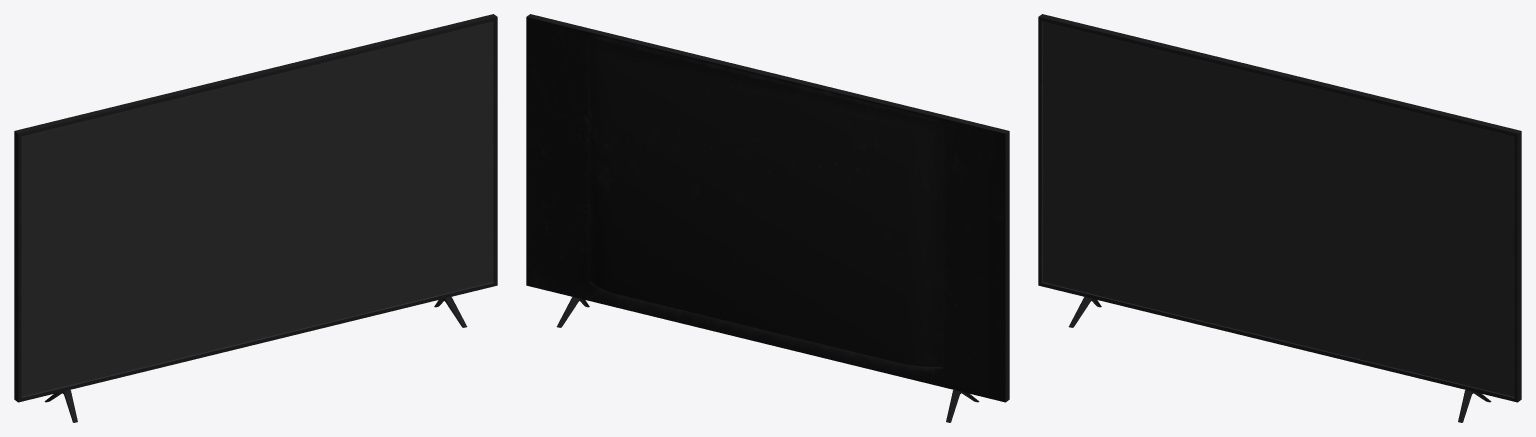
The model's file is tv_living_room.glb.
The picture shows the model from 3 angles, left to right: view 1: azimuth 30°, elevation 25°; view 2: azimuth 150°, elevation 25°; view 3: azimuth 330°, elevation 25°; orthographic projection.
Parts seen in each view (by area): view 1: TV_Screen_Livingroom_TV_0, TV_Legs_Livingroom_TV_0; view 2: TV_Screen_Livingroom_TV_0, TV_Legs_Livingroom_TV_0; view 3: TV_Screen_Livingroom_TV_0, TV_Legs_Livingroom_TV_0.
Boxes of the visible parts, box(x1,y1,x2,y2) form: TV_Screen_Livingroom_TV_0: box(14, 14, 497, 402); TV_Legs_Livingroom_TV_0: box(44, 297, 467, 422); TV_Screen_Livingroom_TV_0: box(526, 14, 1009, 402); TV_Legs_Livingroom_TV_0: box(556, 297, 979, 422); TV_Screen_Livingroom_TV_0: box(1038, 14, 1521, 402); TV_Legs_Livingroom_TV_0: box(1068, 297, 1491, 422).
Size of the model in its own units: 1.4 by 0.8103 by 0.1496.
1 material, 1 textured.
